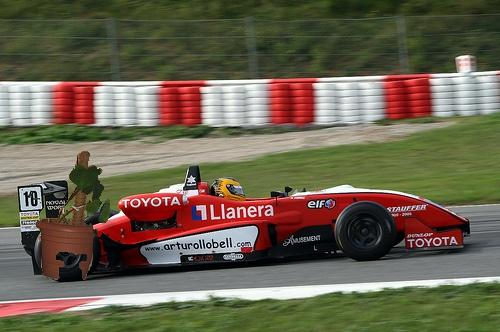tampered: (36, 152, 110, 280)
